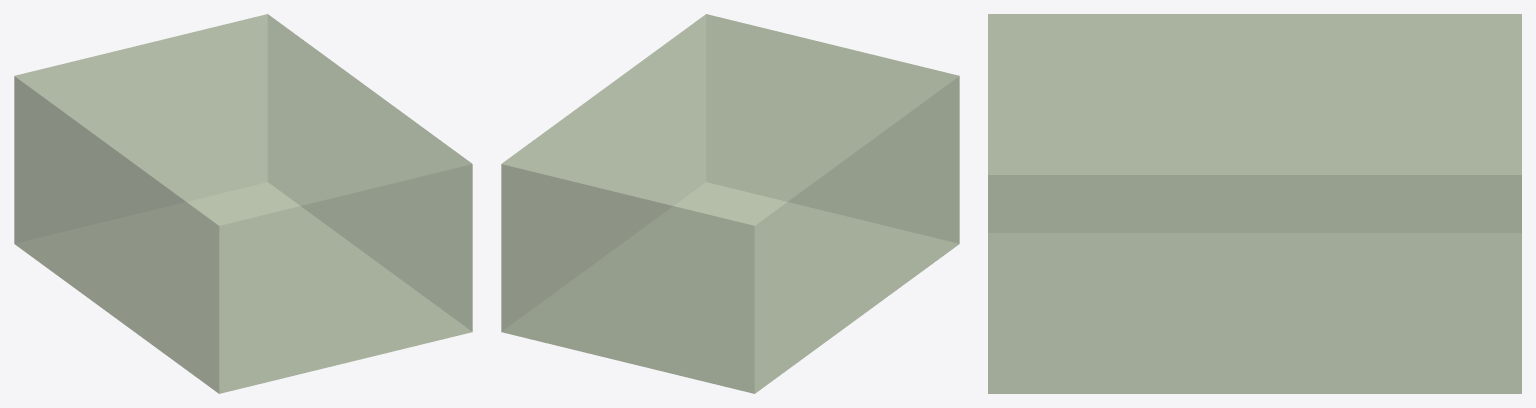
The model's file is blockout.glb.
The picture shows the model from 3 angles, left to right: view 1: azimuth 30°, elevation 25°; view 2: azimuth 150°, elevation 25°; view 3: azimuth 270°, elevation 25°; orthographic projection. The views are drawn at different scales.
Parts seen in each view (by area): view 1: U23_ENVELOPE_NOT_FINAL_MESH; view 2: U23_ENVELOPE_NOT_FINAL_MESH; view 3: U23_ENVELOPE_NOT_FINAL_MESH.
Part boxes in pixels (x1,y1,x2,y2): U23_ENVELOPE_NOT_FINAL_MESH: (14,14,472,393); U23_ENVELOPE_NOT_FINAL_MESH: (501,14,959,393); U23_ENVELOPE_NOT_FINAL_MESH: (988,14,1521,393).
Bounding box in the file's own units: 3 × 1.9 × 4.2.
